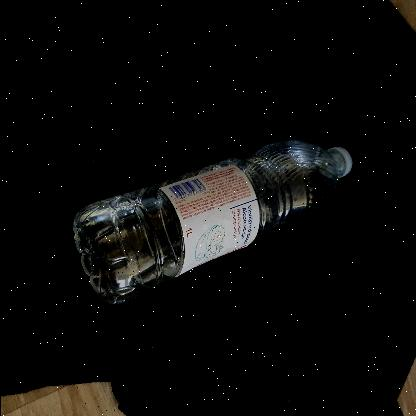Plastic Bottle: (71, 140, 352, 304)
